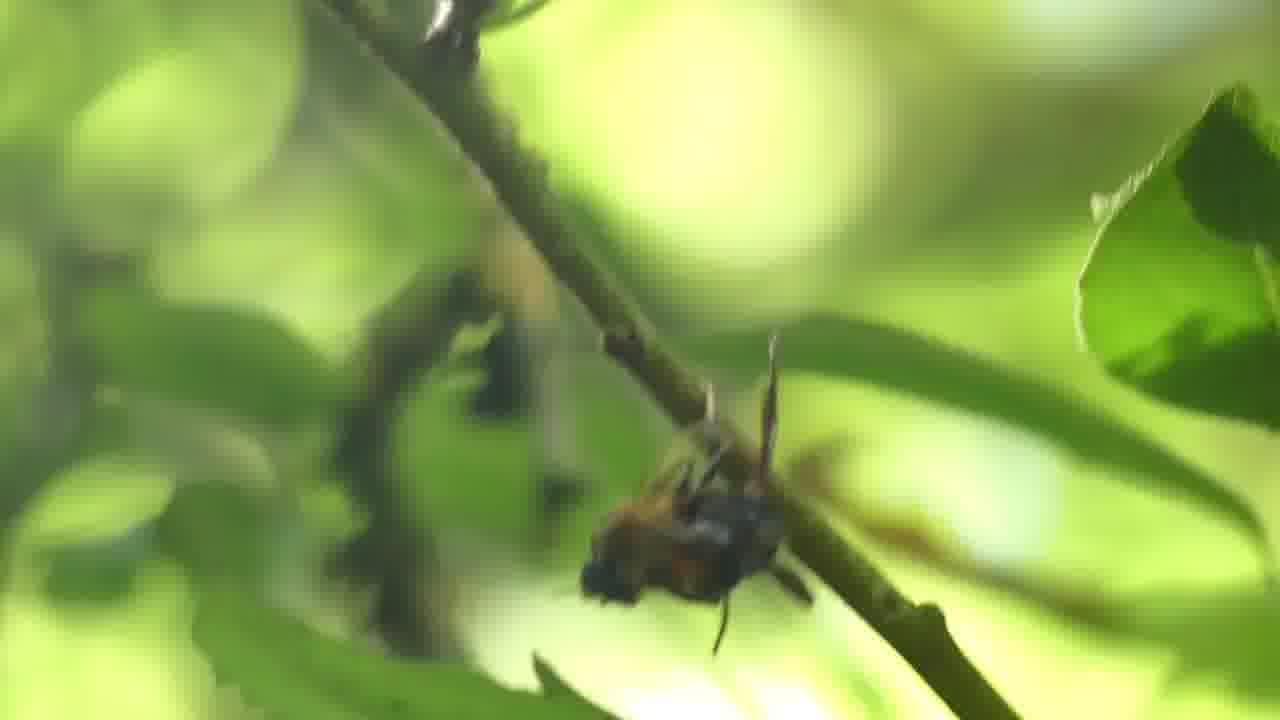hornet: (578, 462, 816, 617)
